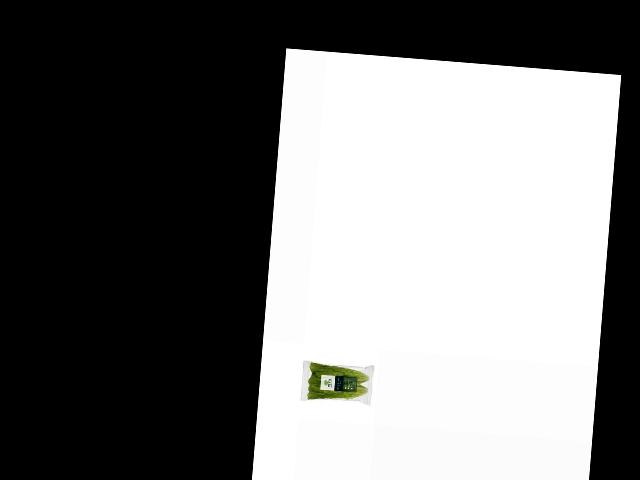lettuce: (304, 357, 371, 404)
